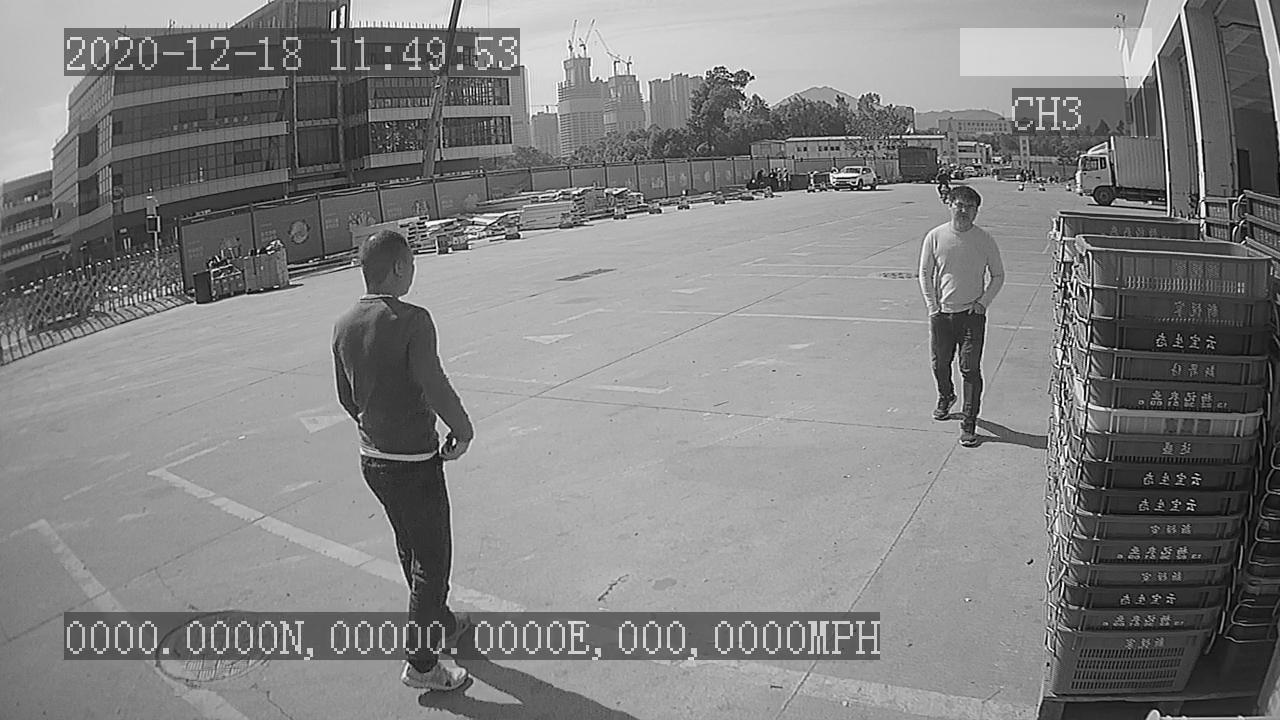person: (913, 185, 1006, 451)
